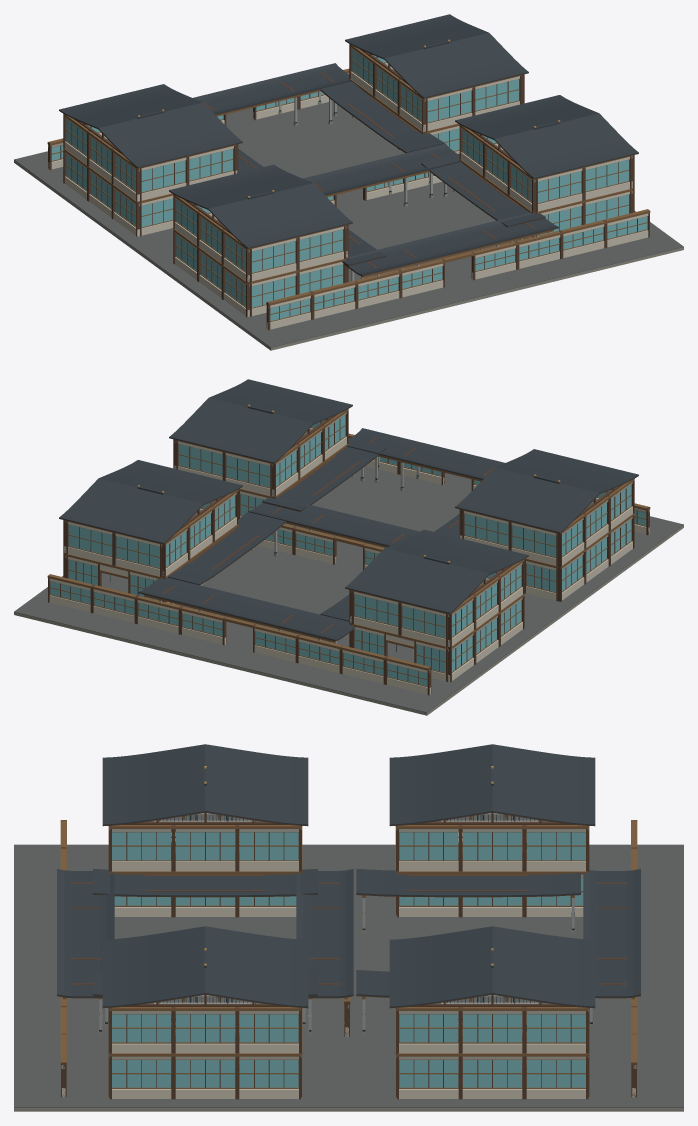
3 renders of one model, top to bottom at view 1: azimuth 30°, elevation 25°; view 2: azimuth 150°, elevation 25°; view 3: azimuth 270°, elevation 25°, orthographic. The views are drawn at different scales.
Parts seen in each view (by area): view 1: 分格窗洞与木石墙 (×14), 连续飞檐与梁椽 (×4), 石铺面与混凝土承板, 连续薄檐、独立防水膜与实际承梁 (×6), 中轴实开门墙 (×3); view 2: 连续飞檐与梁椽 (×4), 分格窗洞与木石墙 (×10), 石铺面与混凝土承板, 中轴实开门墙 (×7), 连续薄檐、独立防水膜与实际承梁 (×5); view 3: 石铺面与混凝土承板, 分格窗洞与木石墙 (×8), 连续飞檐与梁椽 (×4), 连续薄檐、独立防水膜与实际承梁 (×6), 中轴实开门墙 (×2).
Boxes of the visible parts, x1,y1,x2,y2 form: 分格窗洞与木石墙 (×14): [63, 44, 631, 317]; 连续飞檐与梁椽 (×4): [59, 14, 638, 249]; 石铺面与混凝土承板: [14, 101, 683, 350]; 连续薄檐、独立防水膜与实际承梁 (×6): [193, 63, 559, 277]; 中轴实开门墙 (×3): [47, 68, 650, 330]; 连续飞檐与梁椽 (×4): [59, 379, 638, 614]; 分格窗洞与木石墙 (×10): [66, 409, 634, 682]; 石铺面与混凝土承板: [14, 466, 683, 715]; 中轴实开门墙 (×7): [47, 433, 650, 695]; 连续薄檐、独立防水膜与实际承梁 (×5): [138, 428, 504, 642]; 石铺面与混凝土承板: [14, 844, 683, 1111]; 分格窗洞与木石墙 (×8): [109, 825, 588, 1099]; 连续飞檐与梁椽 (×4): [102, 744, 595, 1008]; 连续薄檐、独立防水膜与实际承梁 (×6): [57, 868, 640, 999]; 中轴实开门墙 (×2): [60, 820, 637, 1097].
Size of the model in its own units: 52 by 10.6 by 56.
Materials: 14 (14 with a texture image).
